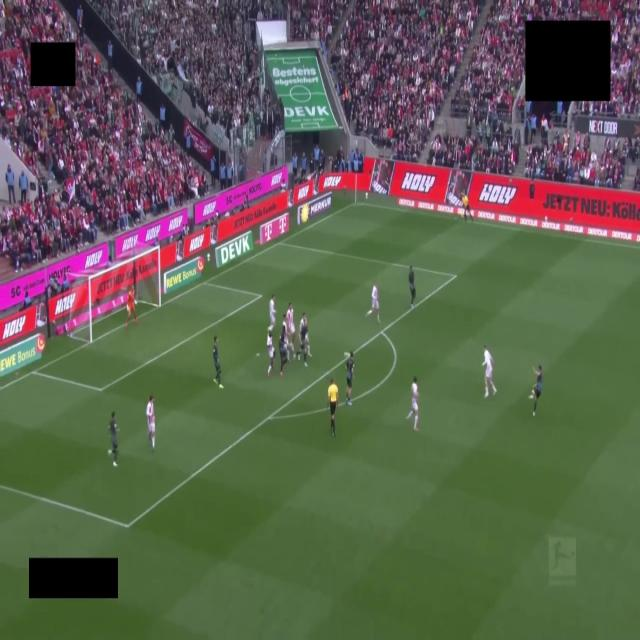player: (483, 345, 496, 398), (530, 365, 542, 416), (407, 377, 418, 431), (297, 312, 307, 367), (213, 336, 223, 389), (366, 282, 379, 322), (146, 395, 155, 451), (109, 412, 118, 466), (286, 304, 295, 357), (279, 323, 288, 376), (126, 287, 137, 327), (346, 352, 354, 406), (267, 330, 274, 376), (408, 266, 415, 308), (268, 295, 275, 331)
referee: (328, 379, 338, 436)
